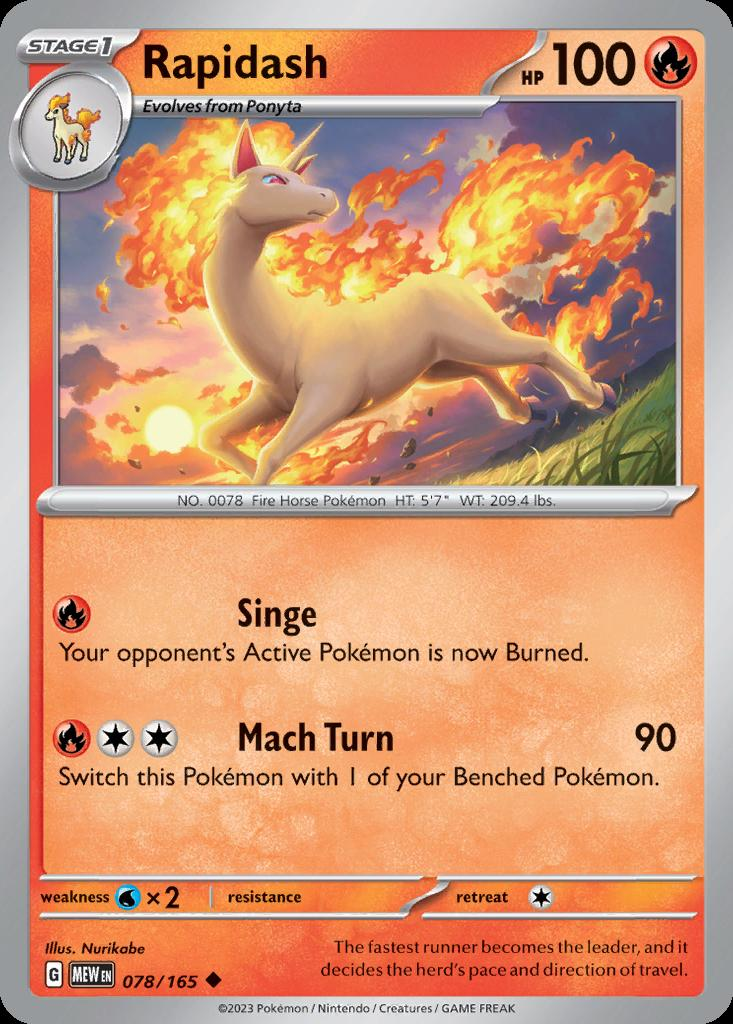card: (1, 4, 733, 1024)
hp: (509, 29, 707, 97)
name: (136, 27, 346, 93)
set num: (121, 956, 230, 994)
set symbol: (44, 960, 119, 993)
